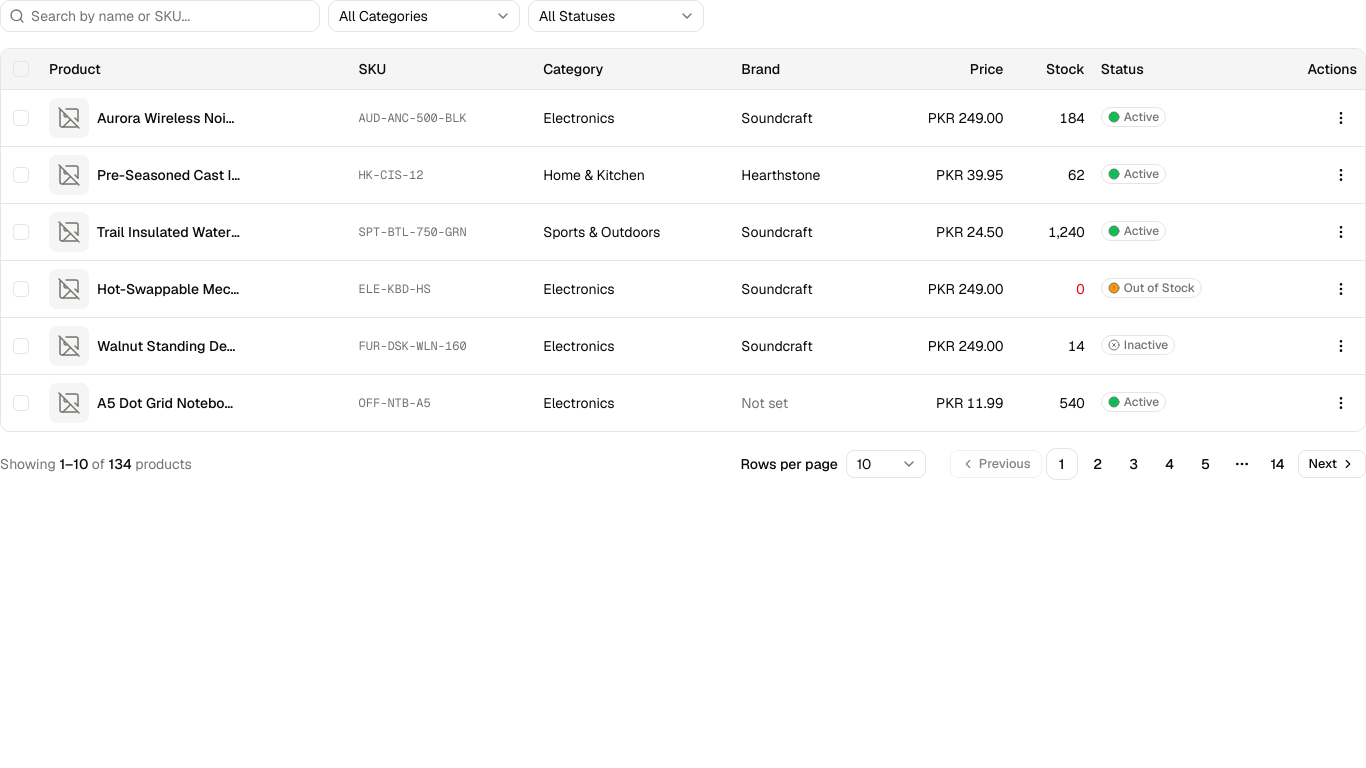
Test: ProductsList deleting › archives the selected products, then refreshes the list and clears the selection
Check: the text "Aurora Wireless Noise-Cancelling Headphones" is shown, box [97, 108, 241, 128]
Click the checkbox named "Select A5 Dot Grid Notebook, 3-Pack".
click(21, 402)  # box [13, 394, 29, 410]
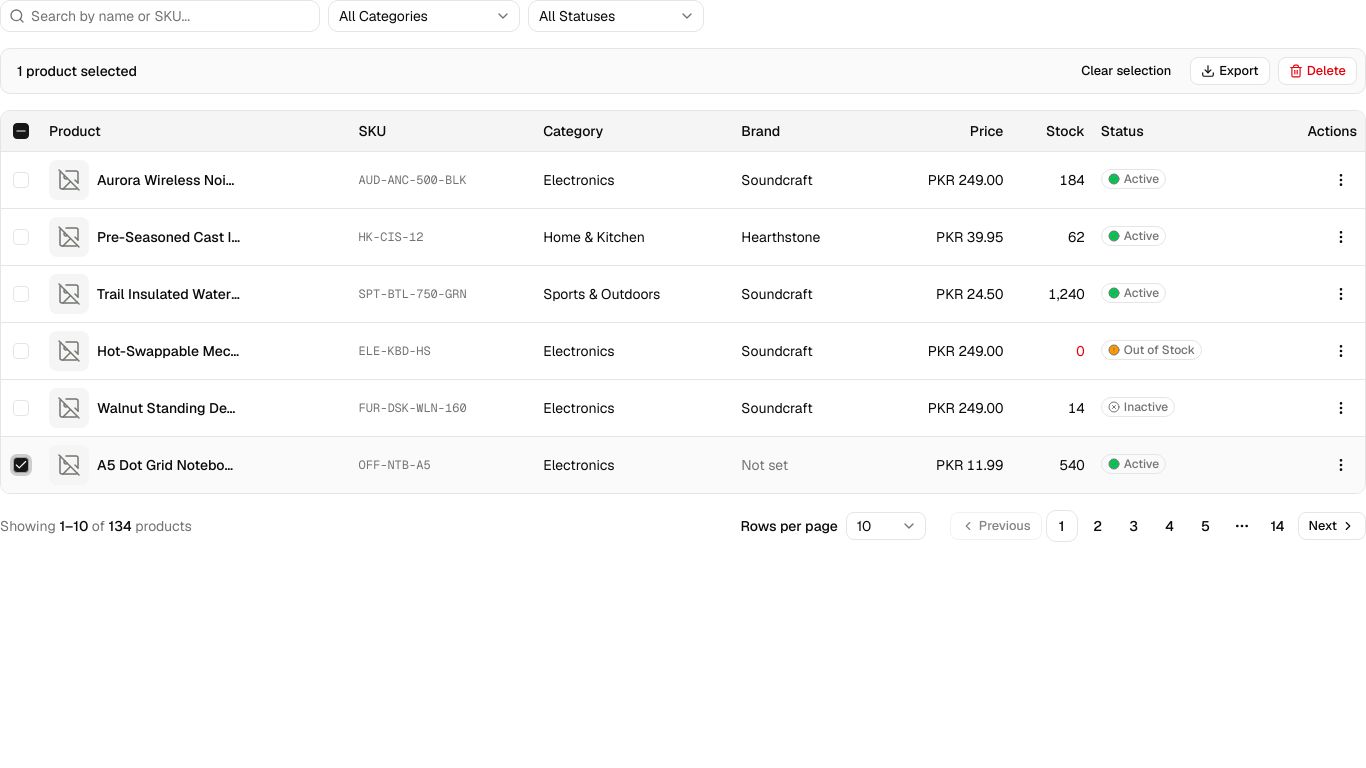
Click the checkbox named "Select Hot-Swappable Mechanical Keyboard".
click(21, 350)  # box [13, 342, 29, 358]
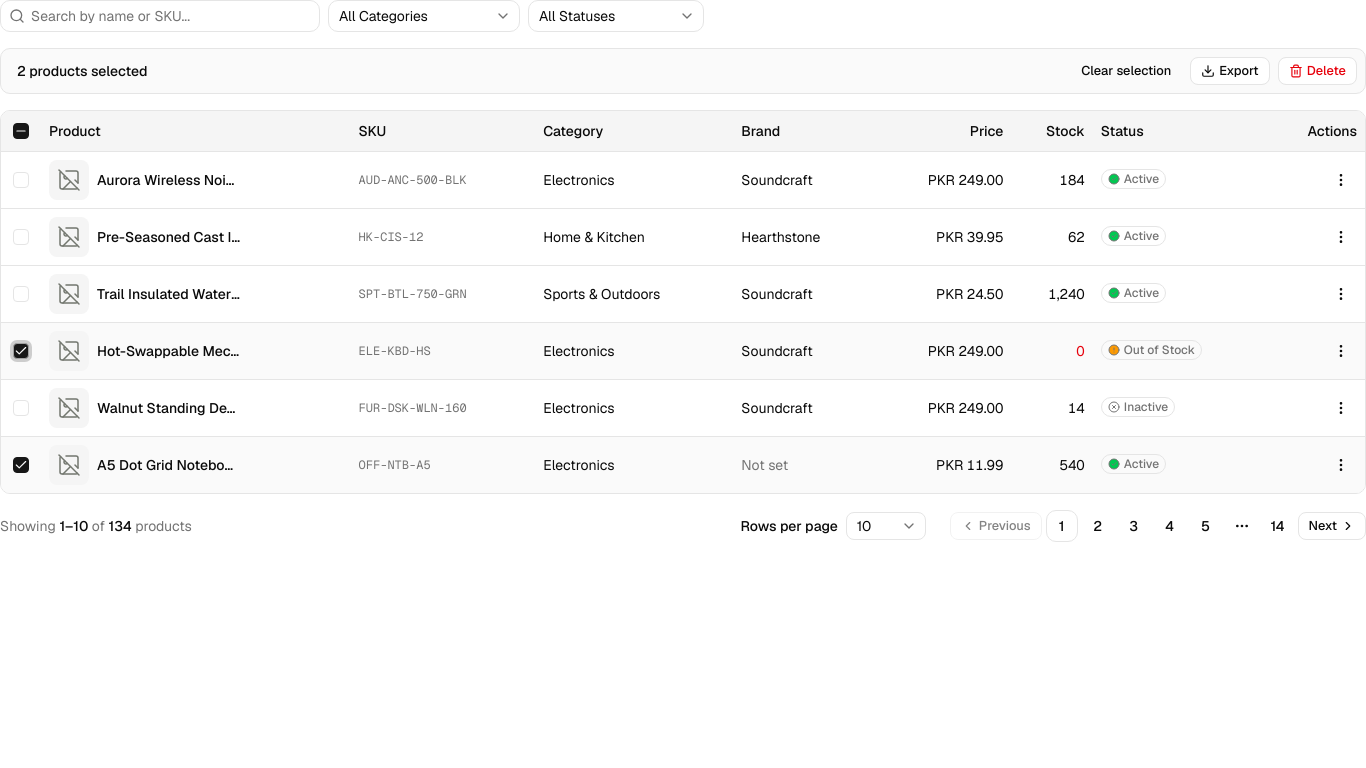
Click the button "Delete".
click(1317, 71)  # box [1278, 57, 1357, 85]
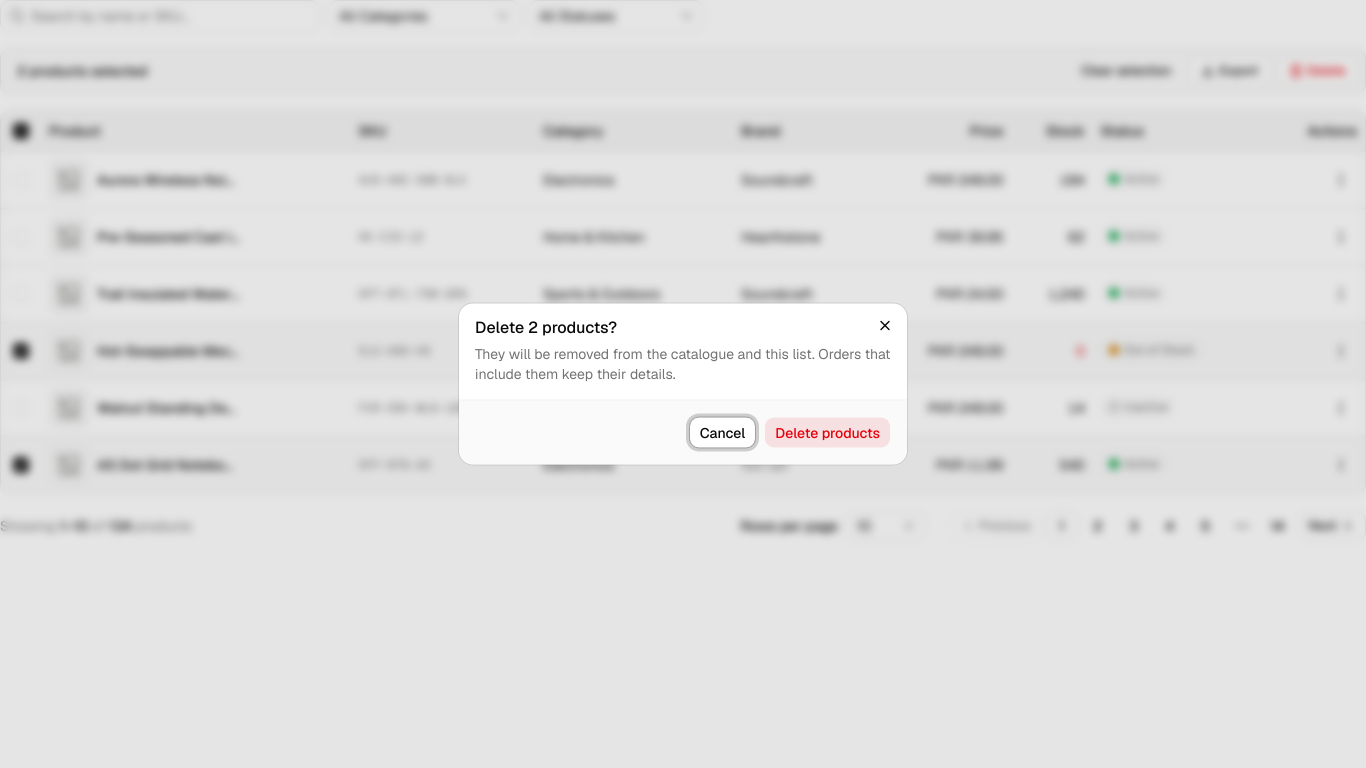
Check: the dialog shows "Delete 2 products?", box [475, 316, 617, 338]
Click the button "Delete products".
click(828, 432)  # box [764, 416, 891, 448]
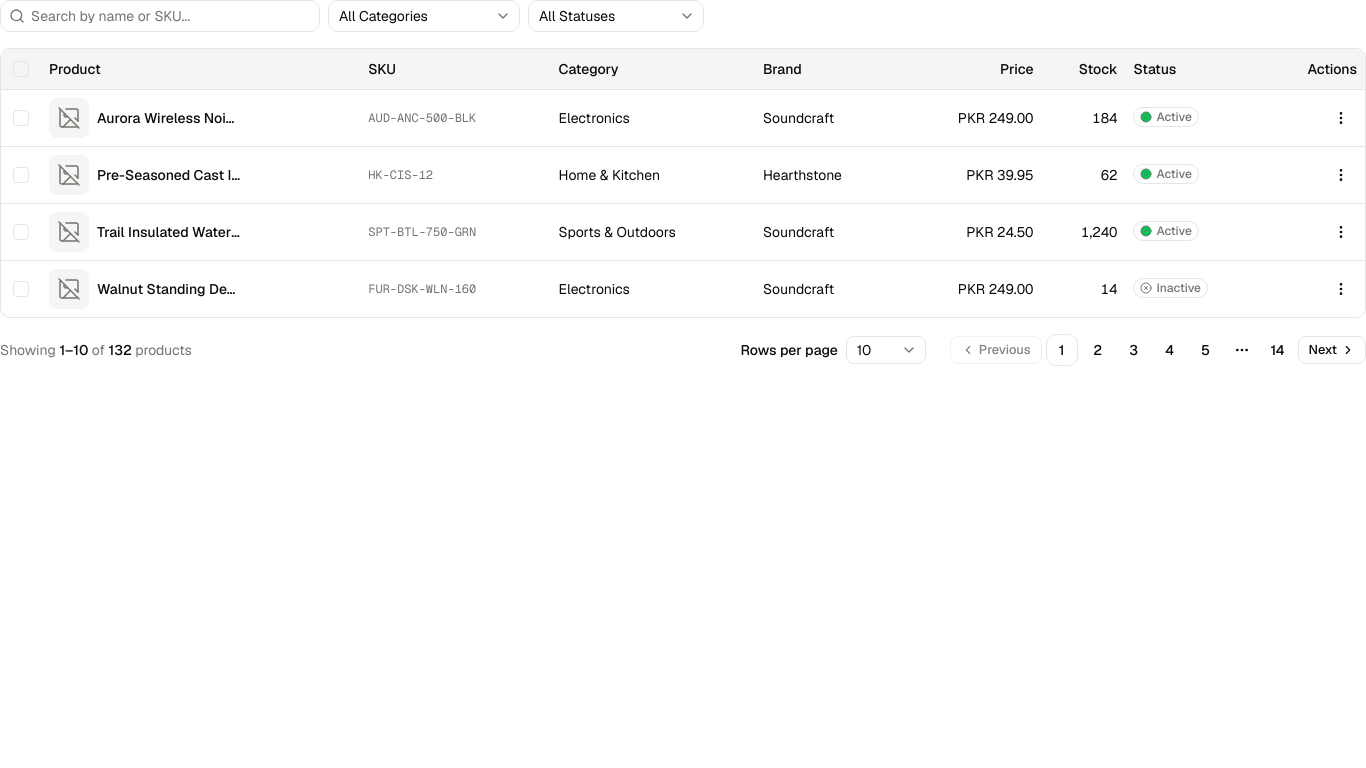
Check: the link "A5 Dot Grid Notebook, 3-Pack" is gone
